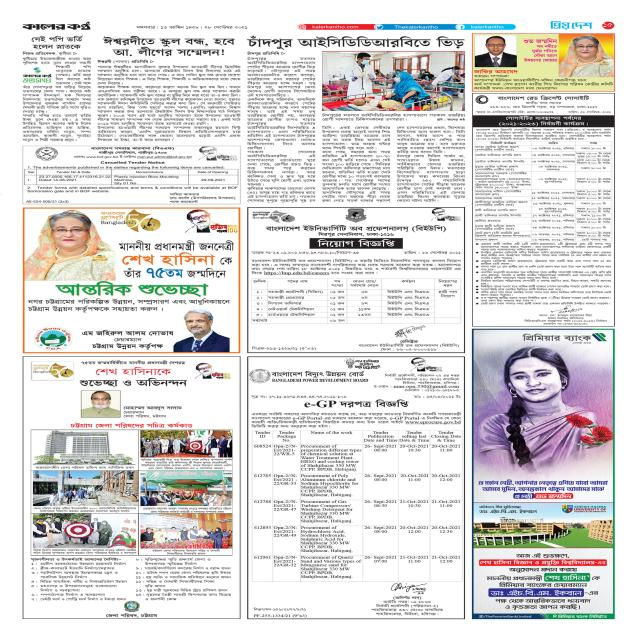advertisement: (24, 356, 242, 620), (249, 356, 464, 619), (471, 328, 618, 619), (472, 92, 615, 327), (246, 207, 466, 354), (24, 206, 238, 351), (21, 144, 241, 203), (473, 34, 617, 91)
caption: (319, 113, 469, 121)
image: (322, 51, 465, 112), (32, 65, 43, 74)
page number: (603, 20, 616, 30)
paragraph: (246, 57, 317, 202), (18, 55, 94, 143), (96, 85, 243, 125), (320, 124, 395, 202), (397, 125, 469, 205), (96, 64, 243, 85), (96, 125, 241, 142)
text: (296, 23, 515, 30), (135, 24, 251, 30), (96, 59, 157, 64), (24, 74, 51, 83), (24, 52, 79, 56), (242, 52, 288, 55)
title: (101, 35, 242, 59), (244, 35, 467, 50), (28, 34, 87, 49), (24, 22, 95, 32), (547, 20, 595, 29)
